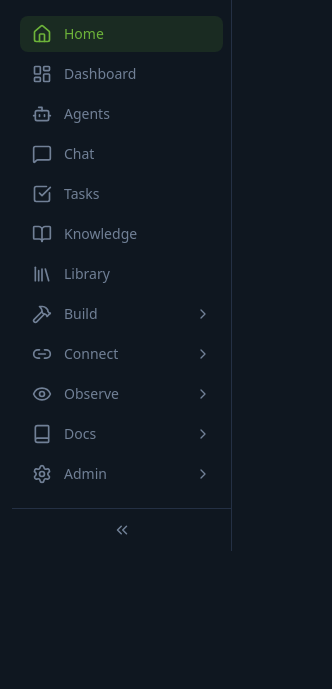
Test: Sidebar › T2: nav shows Dependencies label for admin in Admin group
Click the button "Admin".
click(122, 474)  # box [20,456,223,492]
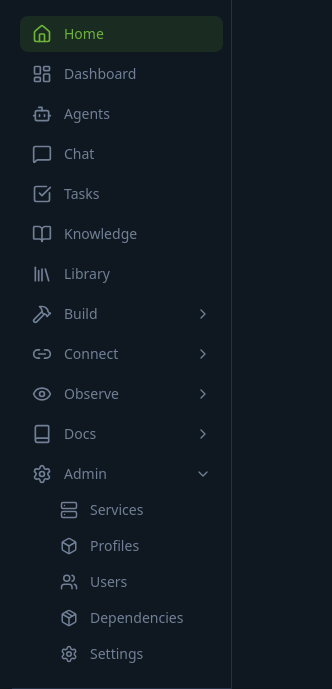
Result: the text "Dependencies" is shown at [90,608,183,628]
